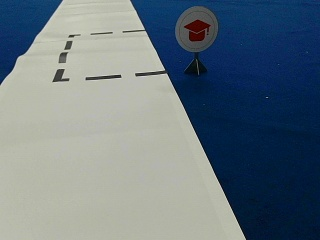school: (175, 5, 221, 53)
